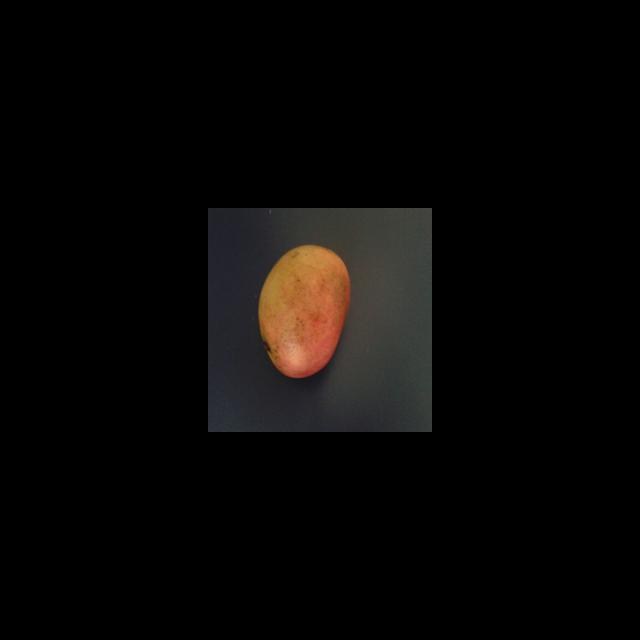Mango: (257, 243, 351, 378)
